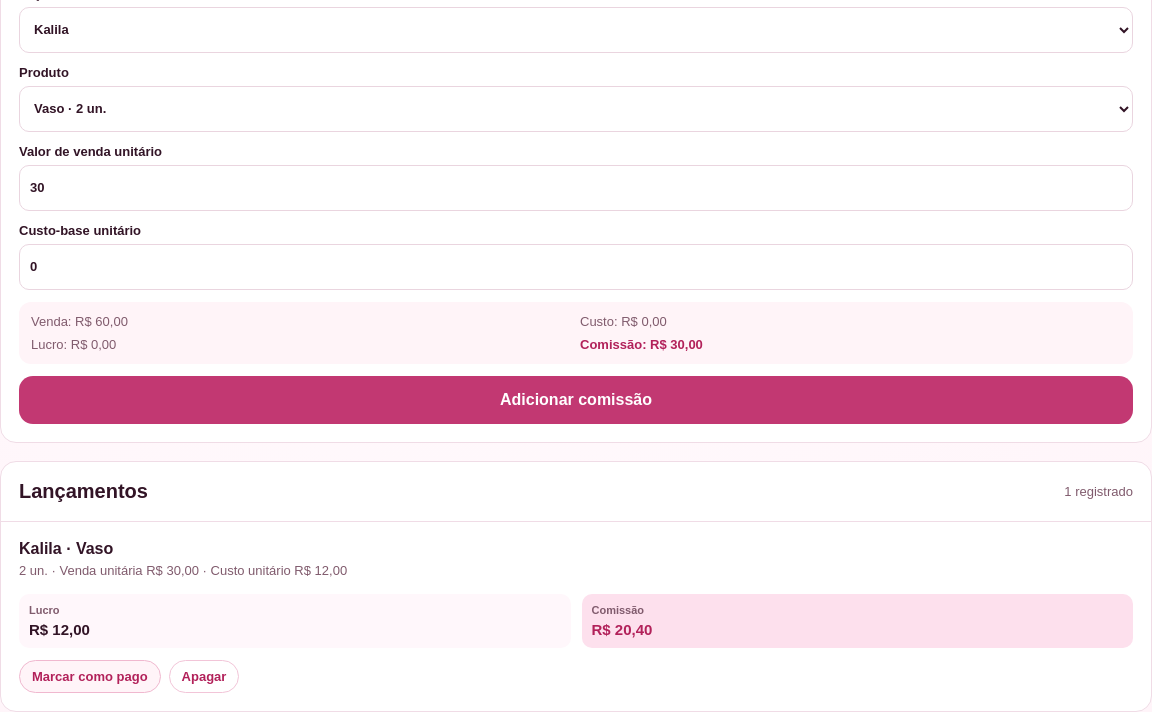
Scenario: CommissionScreen › mostra o carregamento enquanto apaga uma comissão
(page scrolled)
Click the button with aria-label "Apagar comissão de Kalila": (204, 676) left=169, top=660, right=239, bottom=693
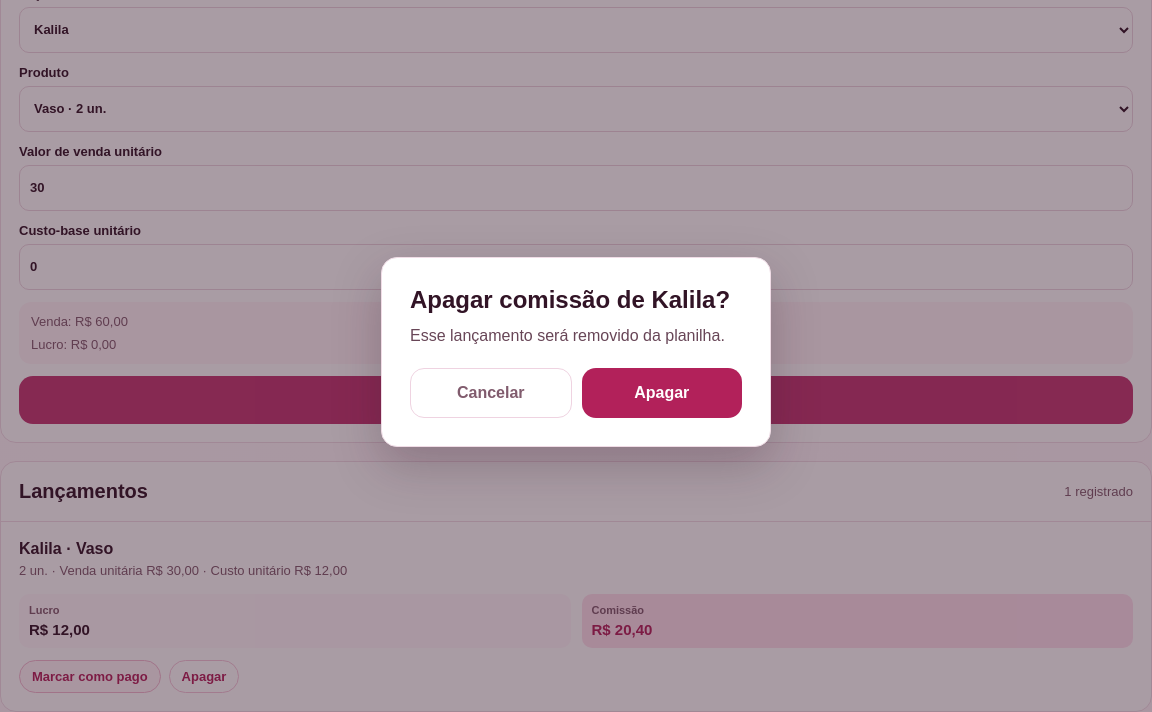
Click the button "Apagar": (662, 393) left=582, top=368, right=742, bottom=418
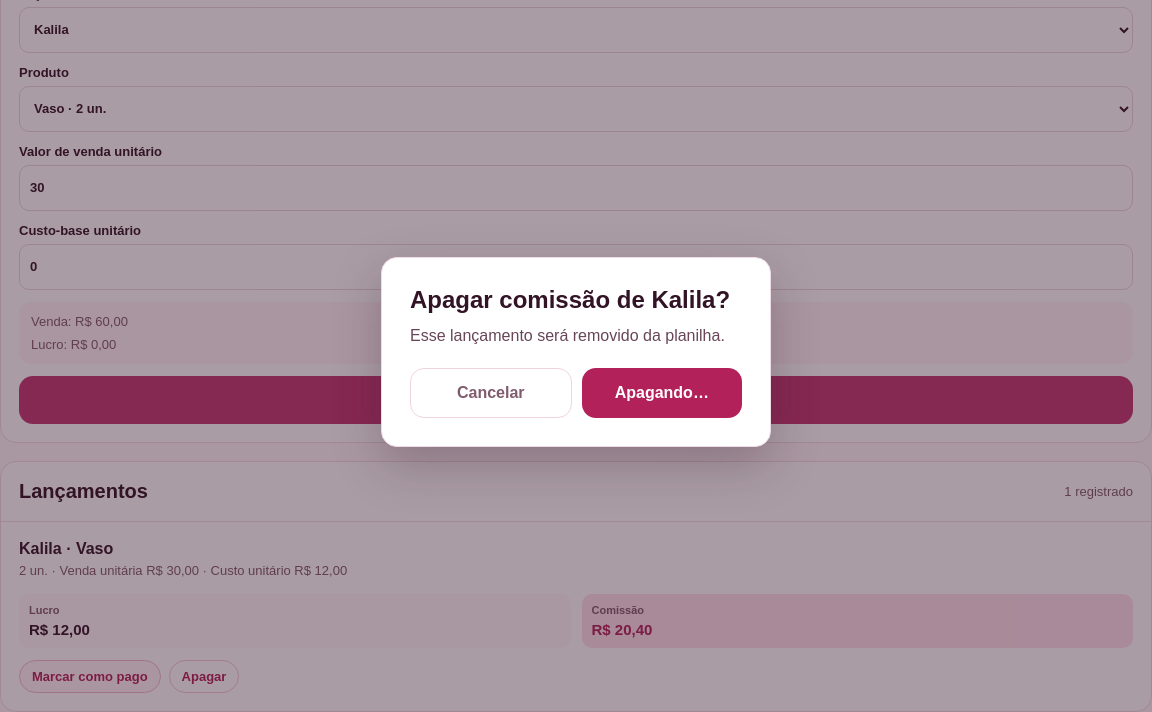
Check: the button "Cancelar" is disabled, box left=410, top=368, right=572, bottom=418
Check: the button "Apagando…" is disabled, box left=582, top=368, right=742, bottom=418
